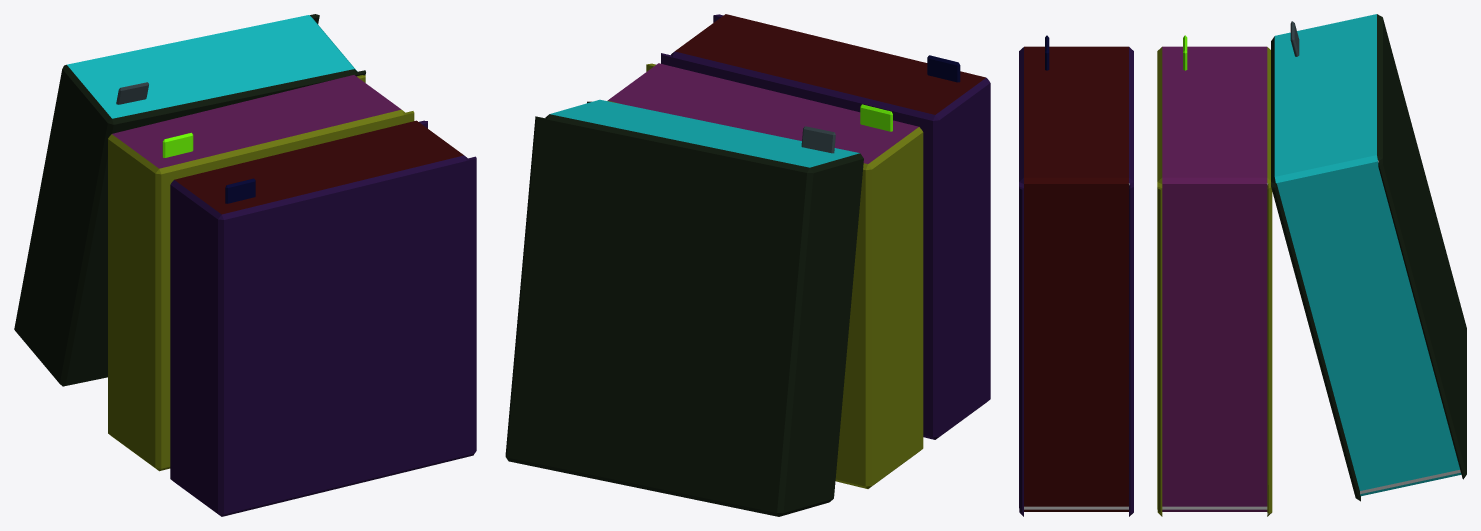
The model's file is books_final.fbx.
3 views of the same model, side by side, from view 1: azimuth 30°, elevation 25°; view 2: azimuth 150°, elevation 25°; view 3: azimuth 270°, elevation 25° (orthographic). The views are drawn at different scales.
Parts seen in each view (by area): view 1: purple_low (×2), green_low (×2), yellow_low (×2), markyellow_low, markpurple_low, markgreen_low; view 2: green_low (×2), purple_low (×2), yellow_low (×2), markgreen_low, markpurple_low, markyellow_low; view 3: green_low (×2), yellow_low (×2), purple_low (×2).
Part boxes in pixels (x1=…): purple_low (×2): x1=170, y1=120, x2=476, y2=516; green_low (×2): x1=14, y1=14, x2=365, y2=386; yellow_low (×2): x1=108, y1=75, x2=414, y2=471; markyellow_low: x1=162, y1=132, x2=193, y2=157; markpurple_low: x1=225, y1=178, x2=255, y2=203; markgreen_low: x1=116, y1=82, x2=148, y2=104; green_low (×2): x1=505, y1=99, x2=863, y2=516; purple_low (×2): x1=661, y1=14, x2=990, y2=439; yellow_low (×2): x1=607, y1=63, x2=923, y2=488; markgreen_low: x1=801, y1=126, x2=835, y2=153; markpurple_low: x1=927, y1=55, x2=960, y2=82; markyellow_low: x1=860, y1=104, x2=892, y2=131; green_low (×2): x1=1271, y1=14, x2=1466, y2=501; yellow_low (×2): x1=1157, y1=46, x2=1272, y2=516; purple_low (×2): x1=1019, y1=46, x2=1133, y2=516.
Bounding box in the file's own units: 4.23 × 5.05 × 5.52.
